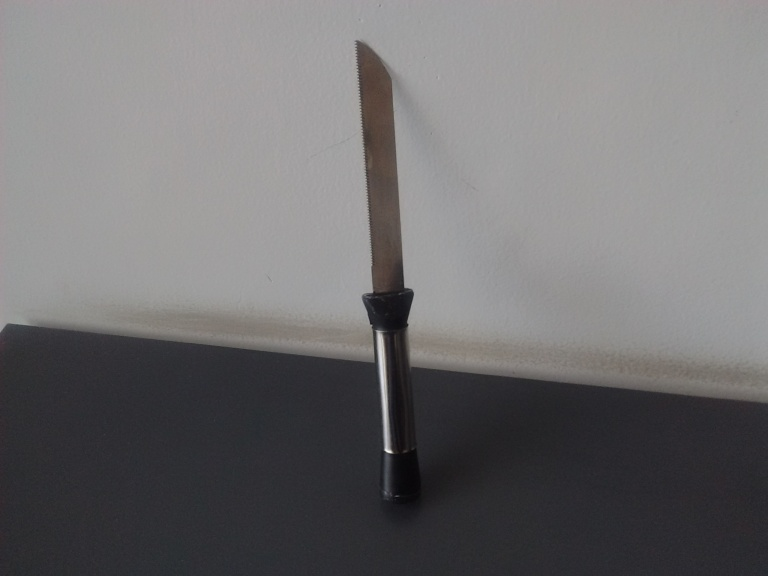knife: (349, 35, 421, 502)
